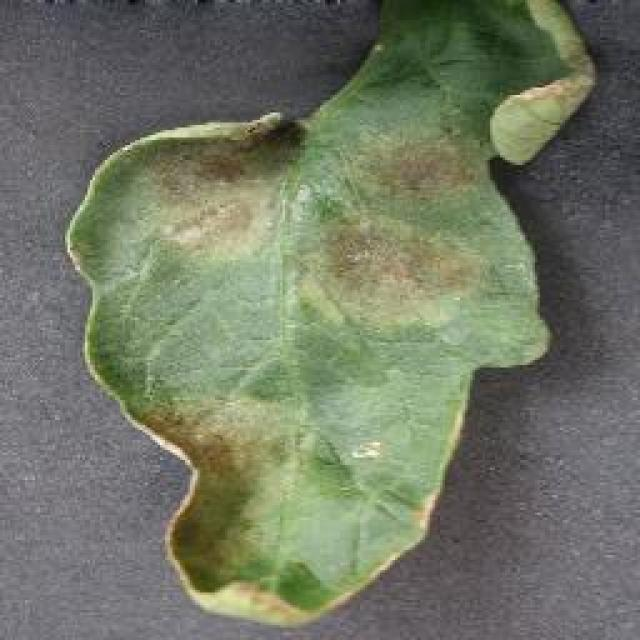Tomato___Late_blight: (62, 0, 598, 632)
